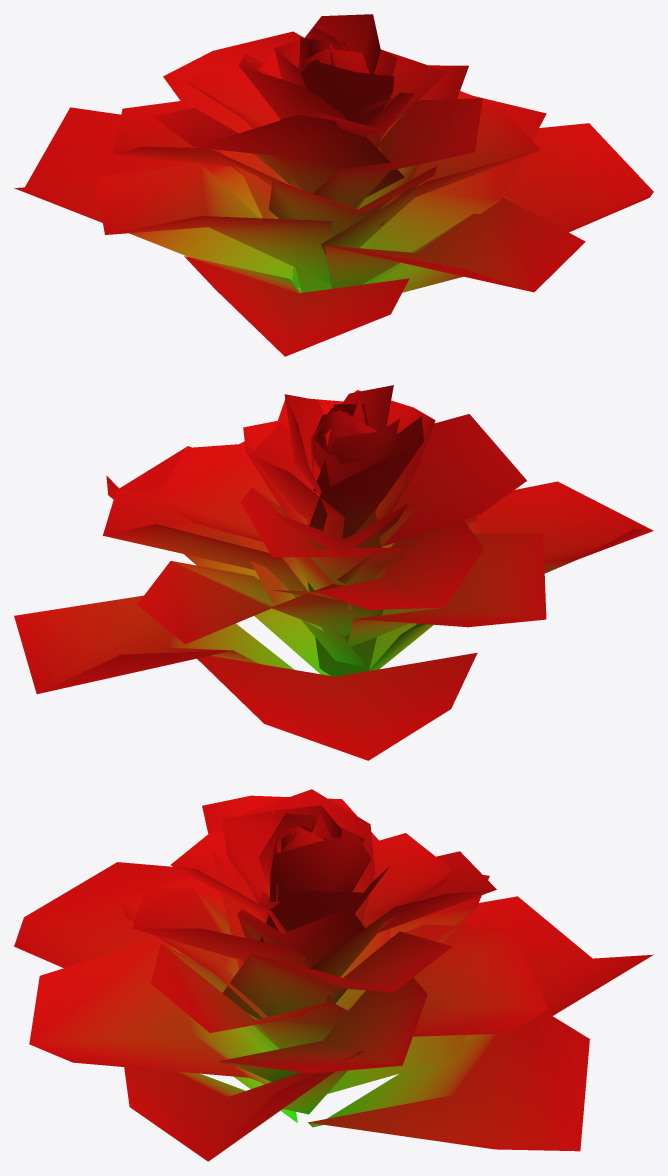
The model's file is Purple Ornamental Kale_LOD5_Var5_ugdieawja.fbx.
3 renders of one model, top to bottom at view 1: azimuth 30°, elevation 25°; view 2: azimuth 150°, elevation 25°; view 3: azimuth 270°, elevation 25°, orthographic. The views are drawn at different scales.
Visible parts, largest first — view 1: _68db_Var5_LOD5; view 2: _68db_Var5_LOD5; view 3: _68db_Var5_LOD5.
Boxes of the visible parts, x1=… form: _68db_Var5_LOD5: x1=14, y1=14, x2=653, y2=356; _68db_Var5_LOD5: x1=14, y1=385, x2=653, y2=760; _68db_Var5_LOD5: x1=14, y1=789, x2=653, y2=1161.
Bounding box in the file's own units: 43.24 × 25.03 × 46.58.
